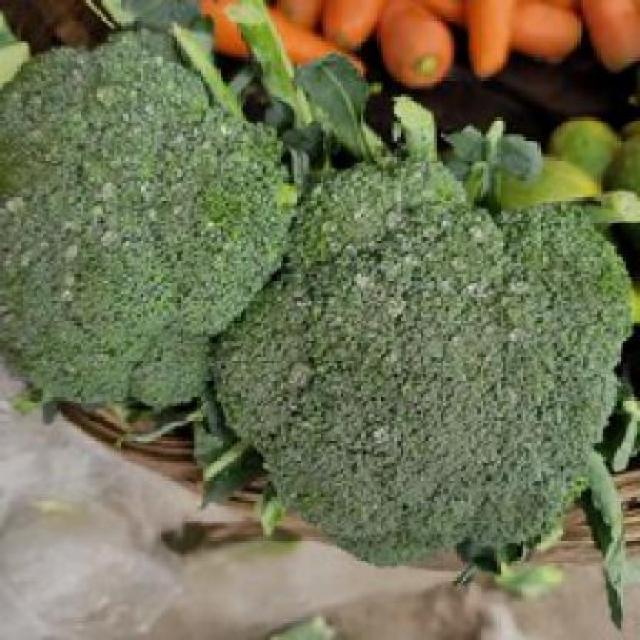broccoli: (262, 172, 624, 556), (0, 46, 271, 402)
